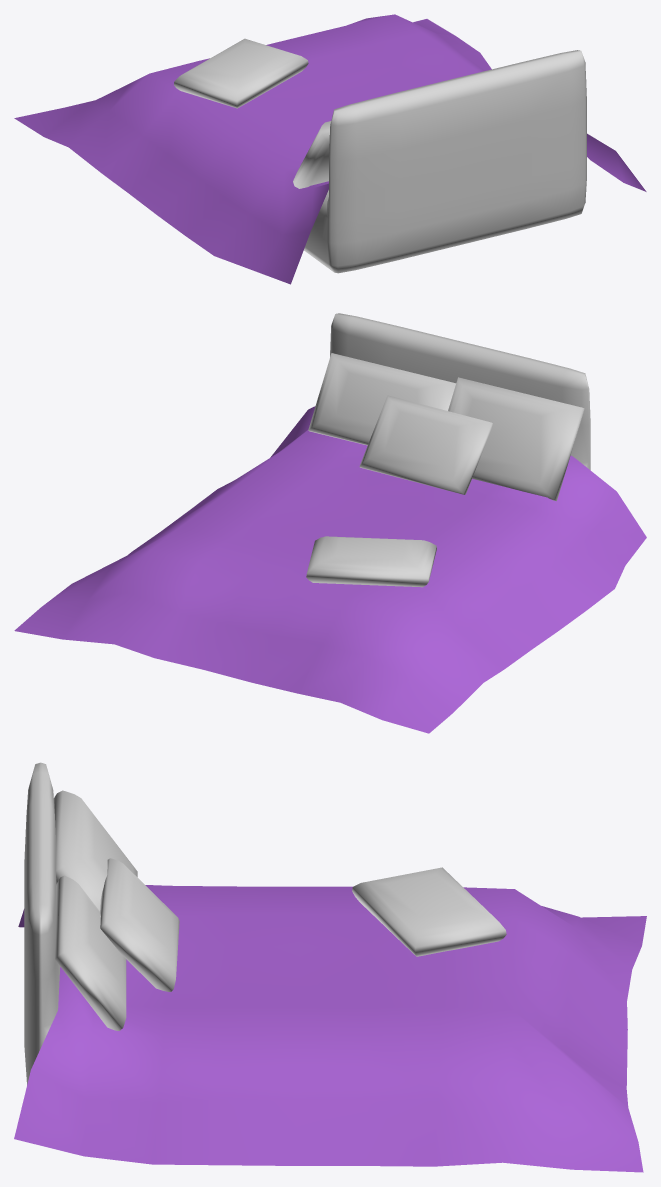
File: bed.fbx
The picture shows the model from 3 angles, top to bottom: view 1: azimuth 30°, elevation 25°; view 2: azimuth 150°, elevation 25°; view 3: azimuth 270°, elevation 25°; orthographic projection. The views are drawn at different scales.
Visible parts, largest first — view 1: bed; view 2: bed; view 3: bed.
Boxes of the visible parts, bbox=[...] form: bed: bbox=[14, 14, 646, 284]; bed: bbox=[14, 313, 646, 733]; bed: bbox=[14, 762, 646, 1172].
Bounding box in the file's own units: 823 × 313 × 856.
